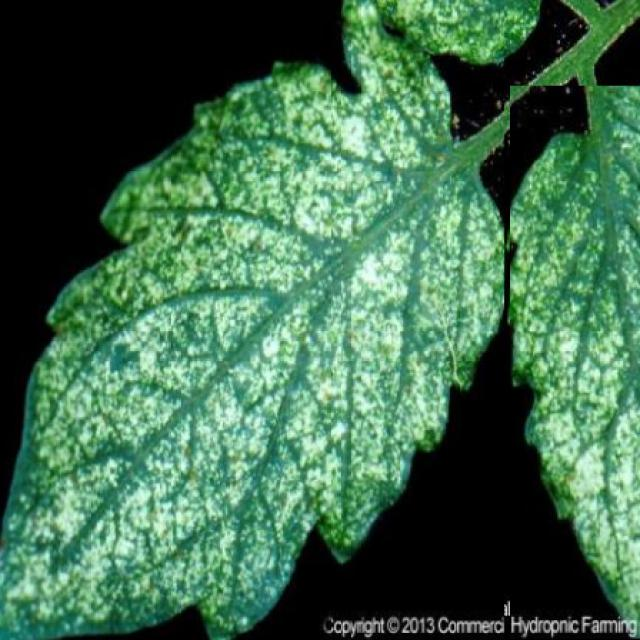Spider Mites: (0, 0, 504, 640), (510, 86, 640, 638)
